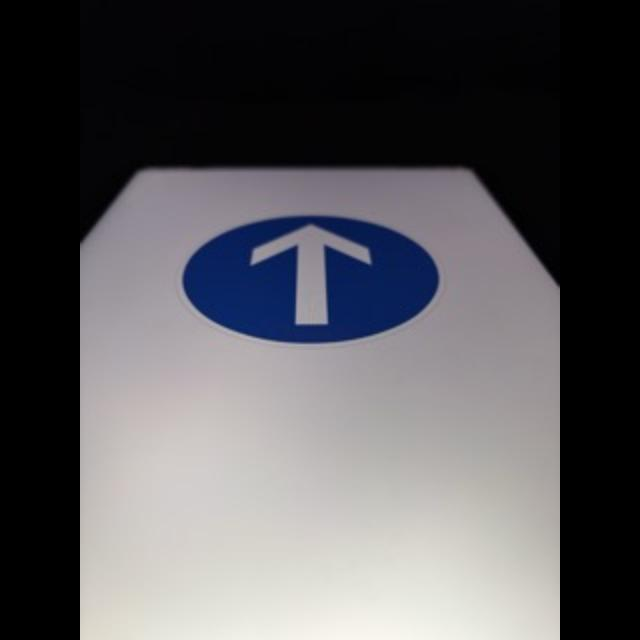GO FORWARD: (178, 212, 448, 346)
